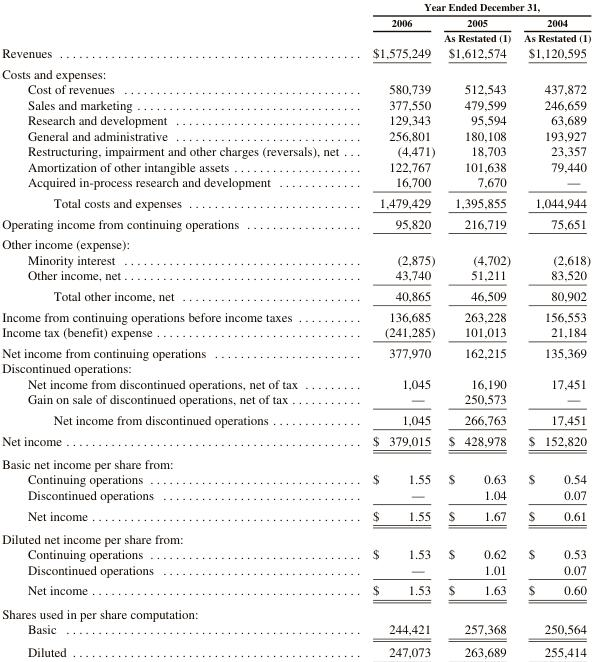table: (1, 0, 590, 659)
table column: (1, 0, 355, 659), (355, 0, 438, 659), (438, 0, 516, 659), (516, 0, 590, 659)
table column header: (1, 0, 590, 44)
table projected row header: (1, 451, 590, 471), (1, 526, 590, 546), (1, 601, 590, 621), (1, 62, 590, 81), (1, 233, 590, 251), (1, 360, 590, 375)
table row: (1, 14, 590, 44), (1, 429, 590, 451), (1, 504, 590, 526), (1, 579, 590, 601), (1, 212, 590, 233), (1, 192, 590, 212), (1, 285, 590, 305), (1, 409, 590, 429), (1, 451, 590, 471), (1, 526, 590, 546), (1, 601, 590, 621), (1, 62, 590, 81), (1, 341, 590, 360), (1, 621, 590, 640), (1, 640, 590, 659), (1, 44, 590, 62), (1, 174, 590, 192), (1, 233, 590, 251), (1, 267, 590, 285), (1, 305, 590, 323), (1, 323, 590, 341), (1, 391, 590, 409), (1, 486, 590, 504), (1, 561, 590, 579), (1, 96, 590, 112), (1, 127, 590, 143), (1, 158, 590, 174), (1, 251, 590, 267), (1, 375, 590, 391), (1, 81, 590, 96), (1, 112, 590, 127), (1, 143, 590, 158), (1, 360, 590, 375), (1, 471, 590, 486), (1, 546, 590, 561), (1, 0, 590, 14)
table spanning cell: (355, 0, 590, 14)
